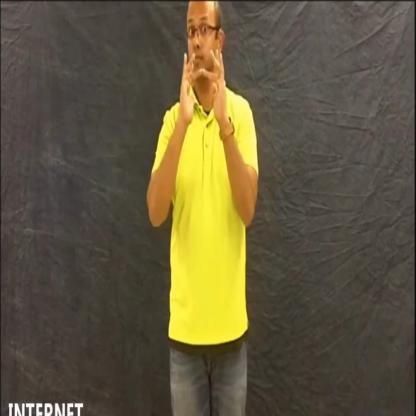Internet: (179, 45, 229, 136)
